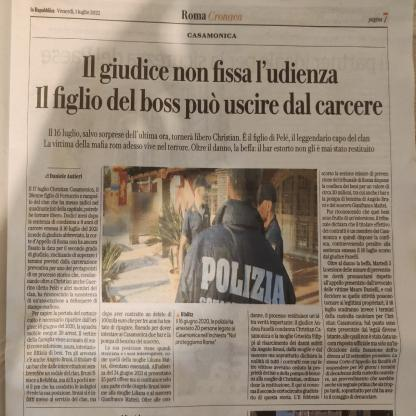immagine: (101, 161, 320, 308)
testo_col: (320, 163, 399, 409), (24, 178, 101, 407), (248, 308, 324, 406), (100, 308, 174, 405)
titolo: (31, 45, 386, 124)
